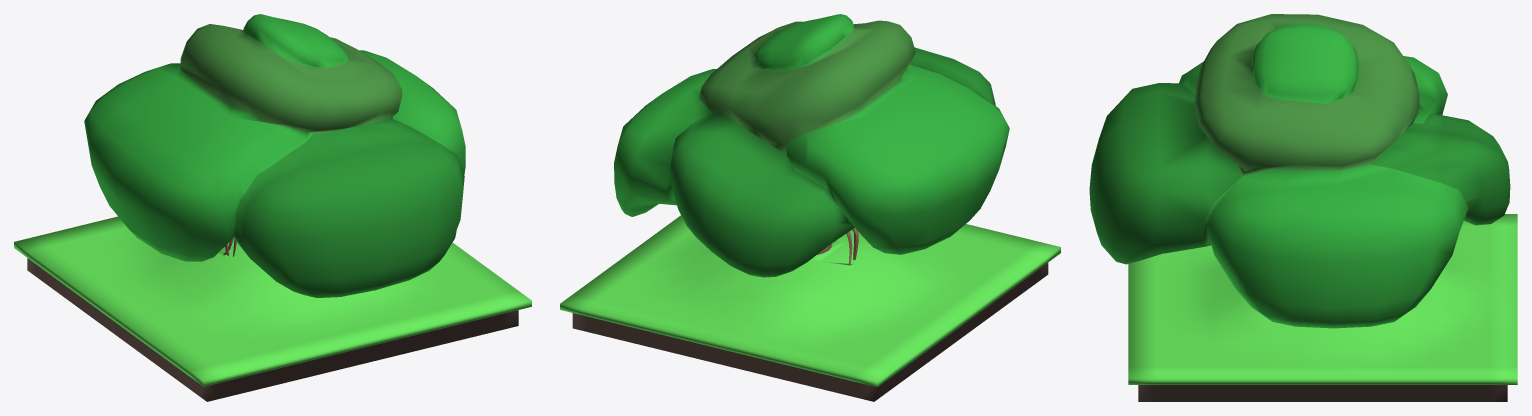
File: guacari03_1.gltf
3 renders of one model, left to right at view 1: azimuth 30°, elevation 25°; view 2: azimuth 150°, elevation 25°; view 3: azimuth 270°, elevation 25°, orthographic. The views are drawn at different scales.
Parts seen in each view (by area): view 1: tronco; view 2: tronco; view 3: tronco.
Boxes of the visible parts, left/top/right/bottom form: tronco: left=14, top=14, right=531, bottom=401; tronco: left=560, top=14, right=1060, bottom=401; tronco: left=1089, top=14, right=1517, bottom=401.
Bounding box in the file's own units: 32.97 × 26.54 × 35.28.
